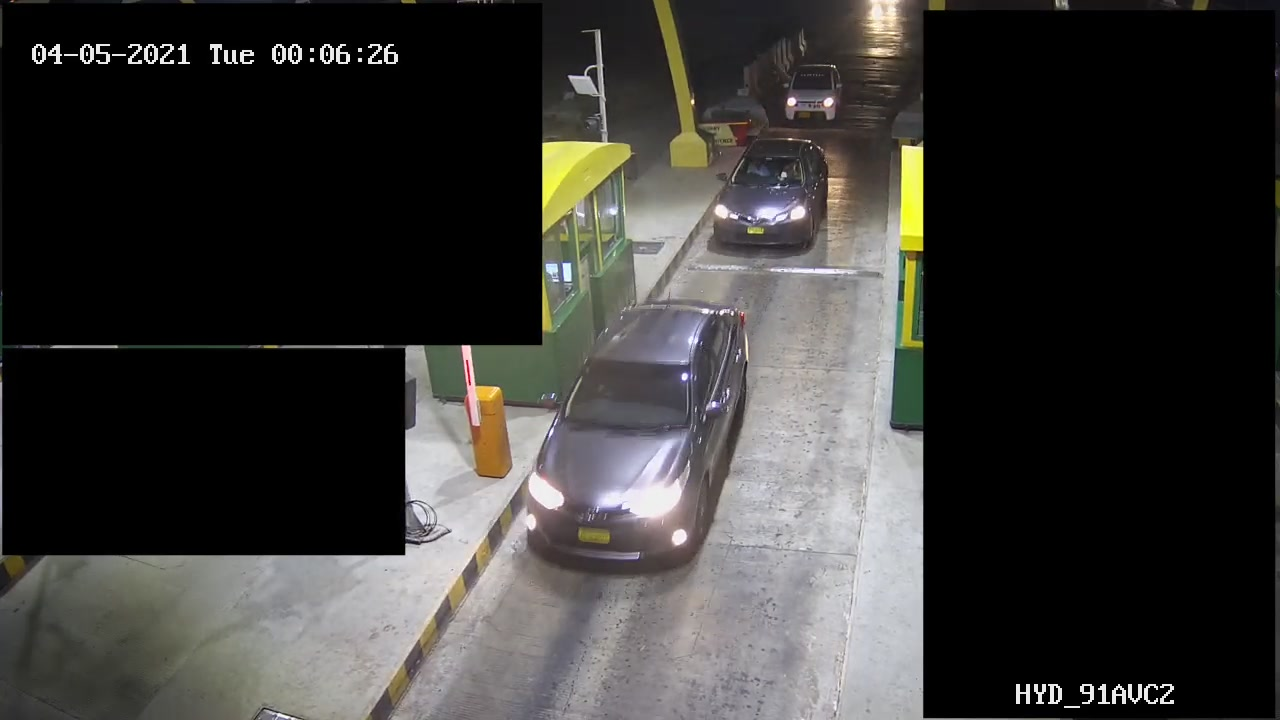F1: (509, 280, 778, 580), (708, 130, 830, 265)
